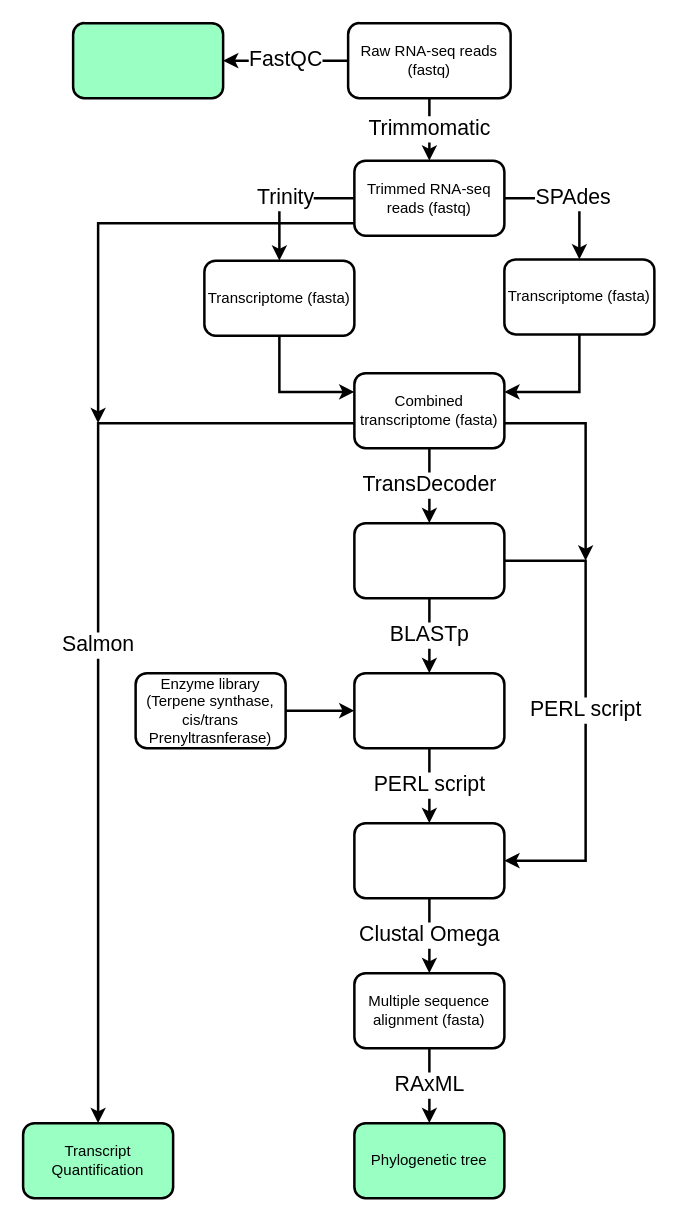
Some shapes in this 676 by 1220 pixel diagram are drawn without their labels. Each missing label, with the box of its shape:
BLAST hit sequences (fasta): (352, 821, 505, 899)
BLASTp output: (352, 671, 505, 749)
Quality Report (html): (71, 21, 224, 99)
transcriptome peptide sequences (pep): (352, 521, 505, 599)
